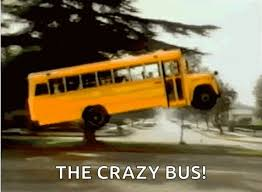bus: (27, 48, 222, 131)
